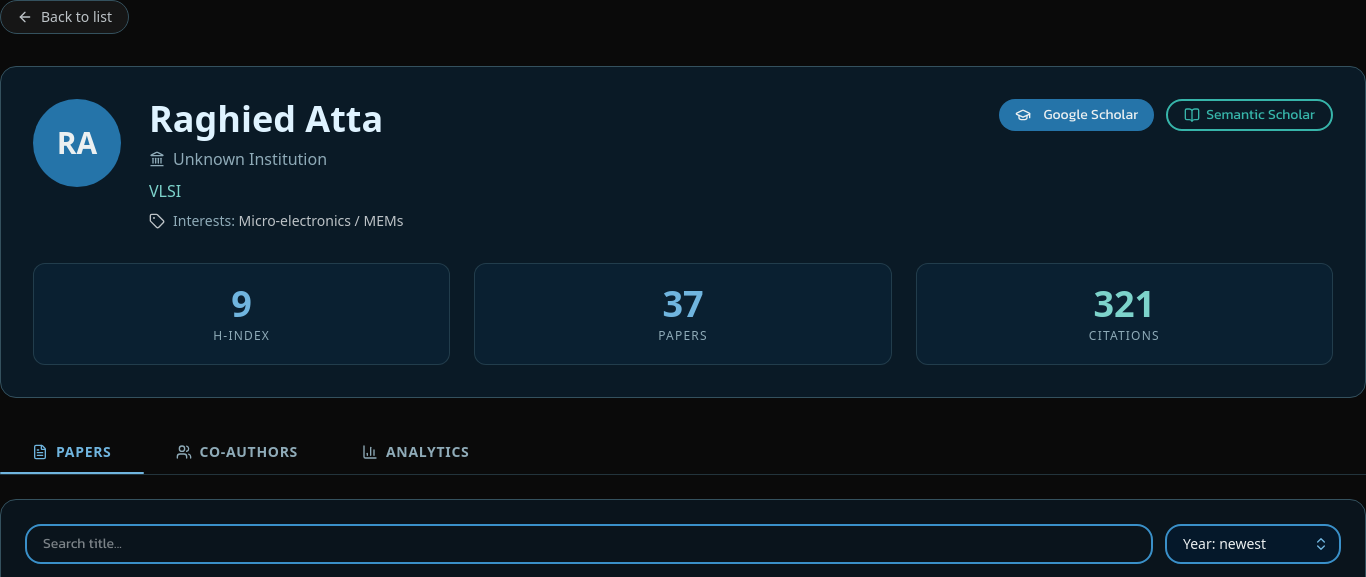
Test: ResearcherProfile tabs › defaults to Papers and switches tabs without leaving old content behind
Expected: the text "321" is shown, [1093,284,1155,324]
Click the tab "Co-Authors". click: (237, 452)
box: [144,430,330,474]
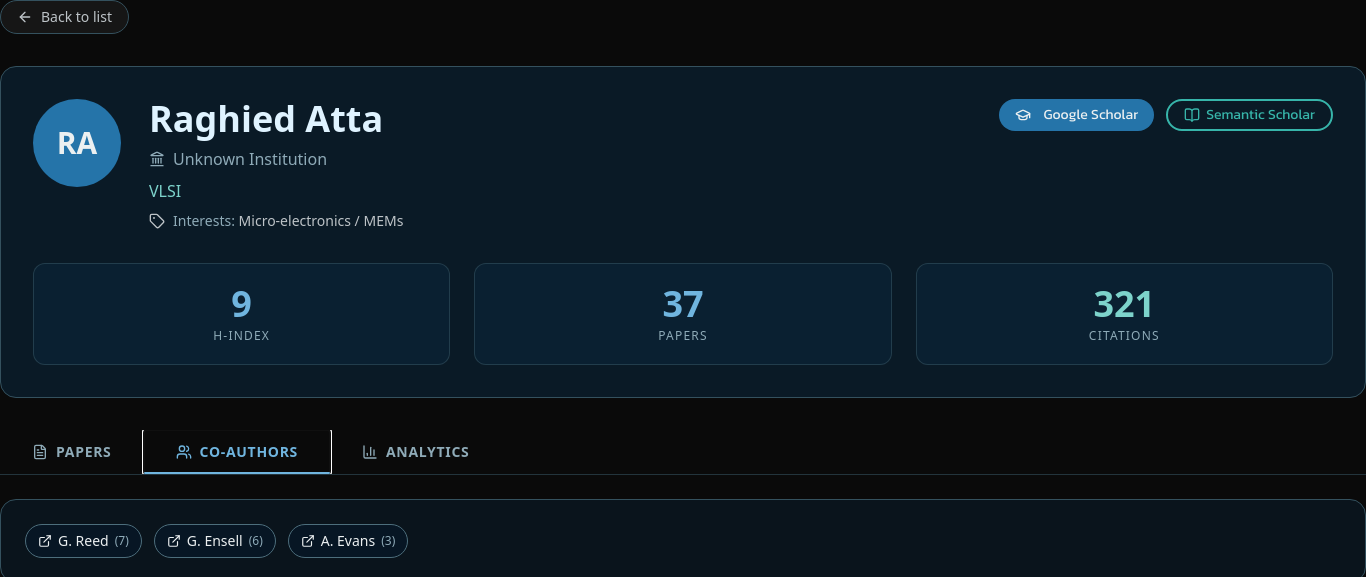
Expected: the list named "Co-authors" is shown, [25,524,408,558]
Click the tab "Analytics". click: (416, 452)
box: [330,430,501,474]
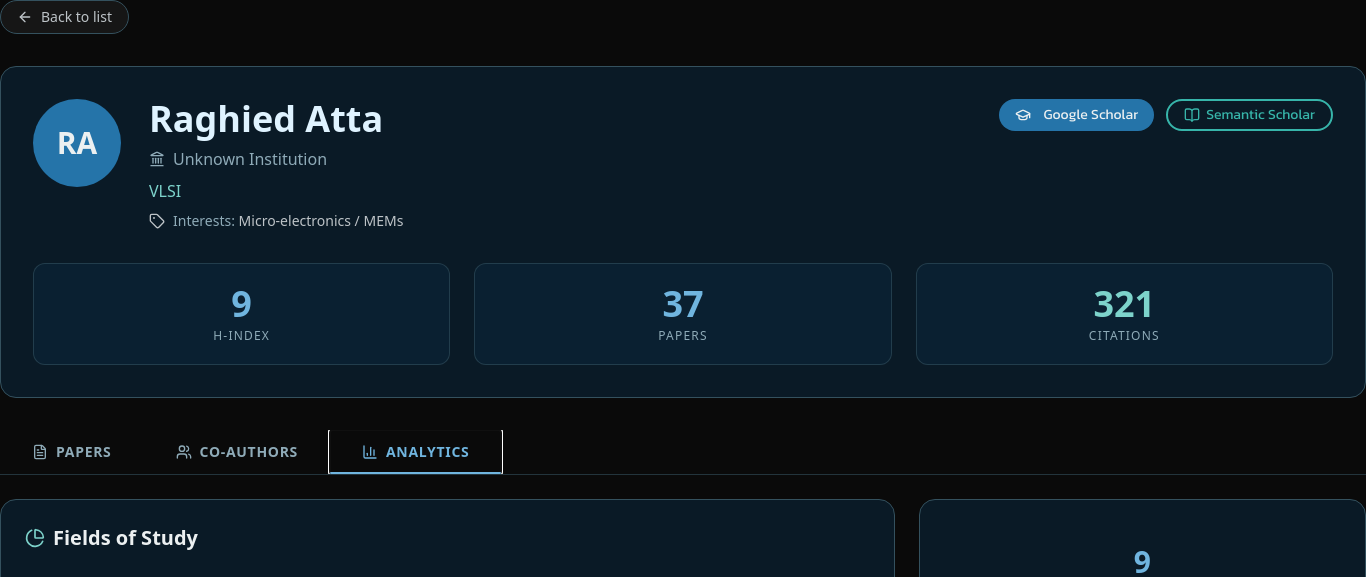
Expected: the heading "Fields of Study" is shown, [25,524,198,551]
